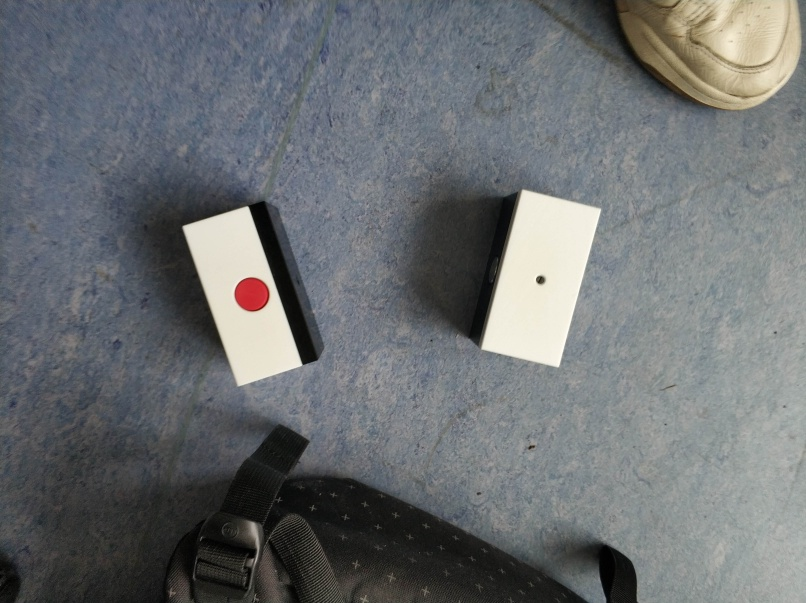black+white+red: (179, 197, 330, 391)
